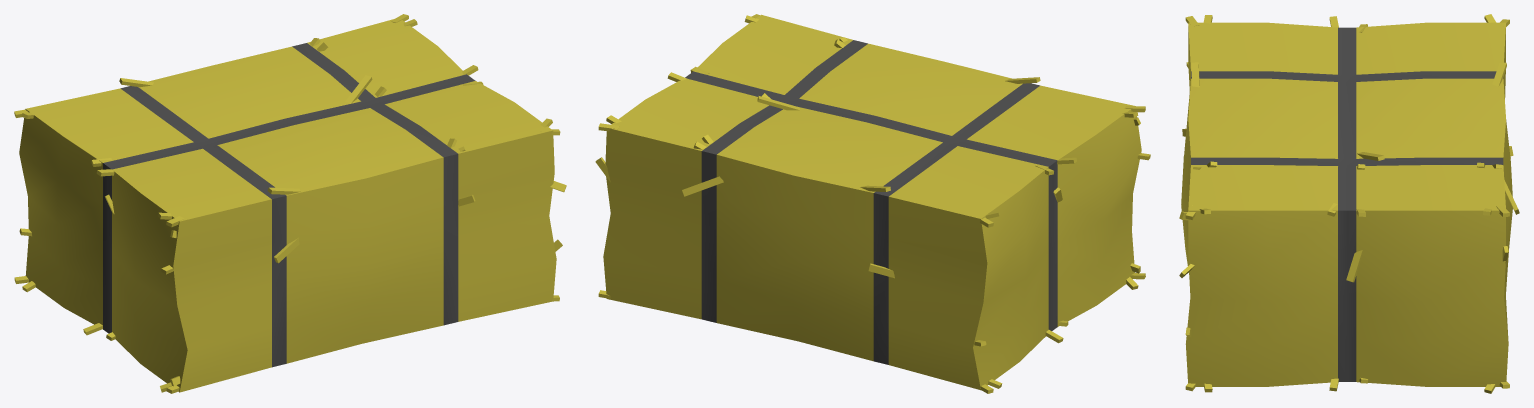
Rendered from bale_hay.fbx.
3 views of the same model, side by side, from view 1: azimuth 30°, elevation 25°; view 2: azimuth 150°, elevation 25°; view 3: azimuth 270°, elevation 25° (orthographic). The views are drawn at different scales.
Visible parts, largest first — view 1: pCube3; view 2: pCube3; view 3: pCube3.
Boxes of the visible parts, <box> form: pCube3: <box>14,14,566,393</box>; pCube3: <box>595,14,1150,393</box>; pCube3: <box>1179,14,1519,393</box>.
Bounding box in the file's own units: 1.11 × 0.4822 × 0.7902.
